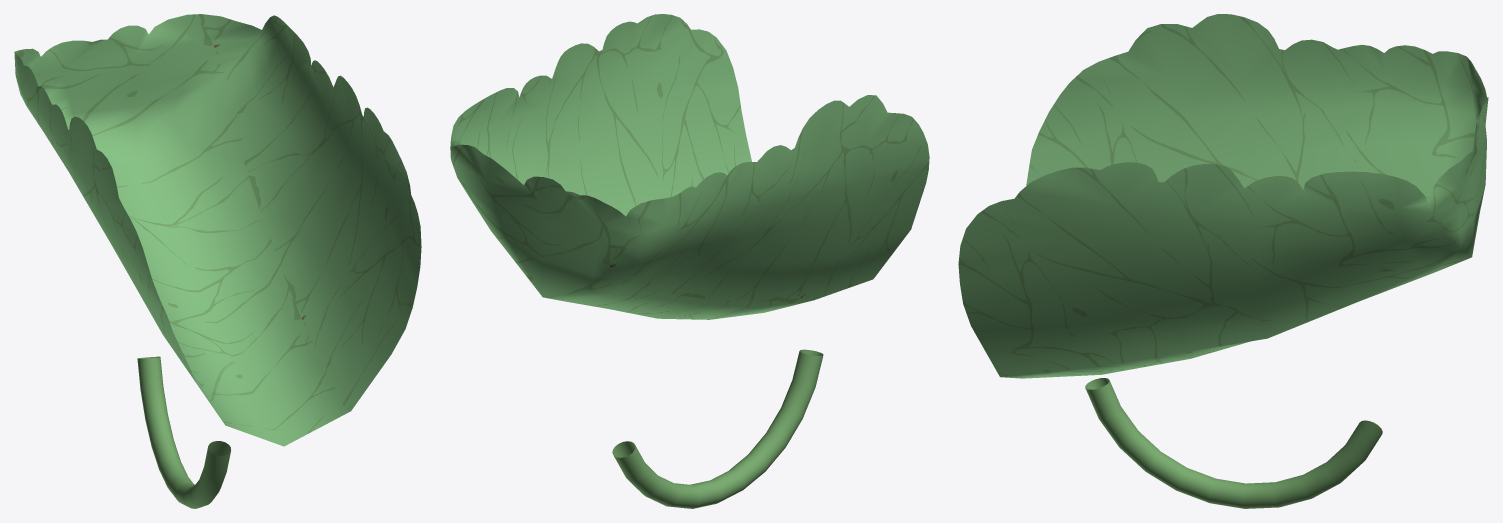
File: Mesh_Home_RF_Leaf_01_SM.fbx
3 renders of one model, left to right at view 1: azimuth 30°, elevation 25°; view 2: azimuth 150°, elevation 25°; view 3: azimuth 270°, elevation 25°, orthographic. The views are drawn at different scales.
Visible parts, largest first — view 1: Mesh_Home_RF_Leaf_01; view 2: Mesh_Home_RF_Leaf_01; view 3: Mesh_Home_RF_Leaf_01.
Part boxes in pixels (left/top/right/bottom): Mesh_Home_RF_Leaf_01: left=14, top=14, right=421, bottom=508; Mesh_Home_RF_Leaf_01: left=450, top=14, right=929, bottom=508; Mesh_Home_RF_Leaf_01: left=958, top=14, right=1488, bottom=508.
Bounding box in the file's own units: 1581 × 2117 × 2315.
Materials: 1 (1 with a texture image).
